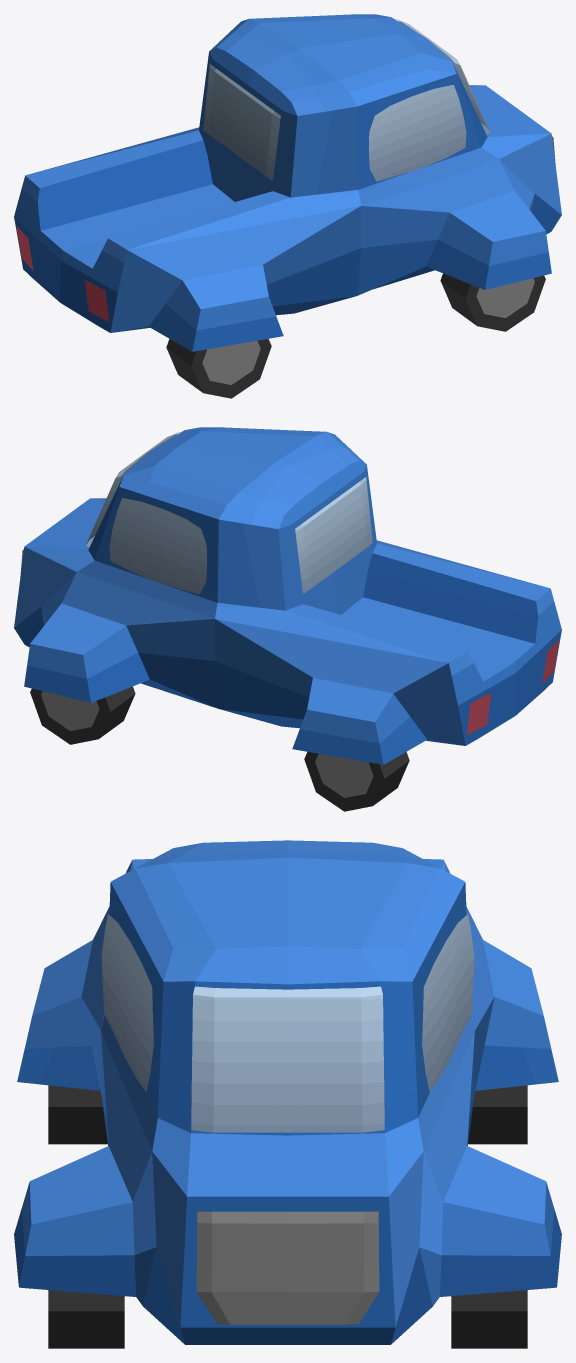
File: pickup.fbx
3 views of the same model, one above another, from view 1: azimuth 30°, elevation 25°; view 2: azimuth 150°, elevation 25°; view 3: azimuth 270°, elevation 25° (orthographic). The views are drawn at different scales.
Visible parts, largest first — view 1: Cube; view 2: Cube; view 3: Cube.
Boxes of the visible parts, x1=… form: Cube: x1=14, y1=14, x2=561, y2=398; Cube: x1=14, y1=427, x2=561, y2=811; Cube: x1=14, y1=840, x2=561, y2=1348.
Bounding box in the file's own units: 128 × 84.09 × 66.58.
